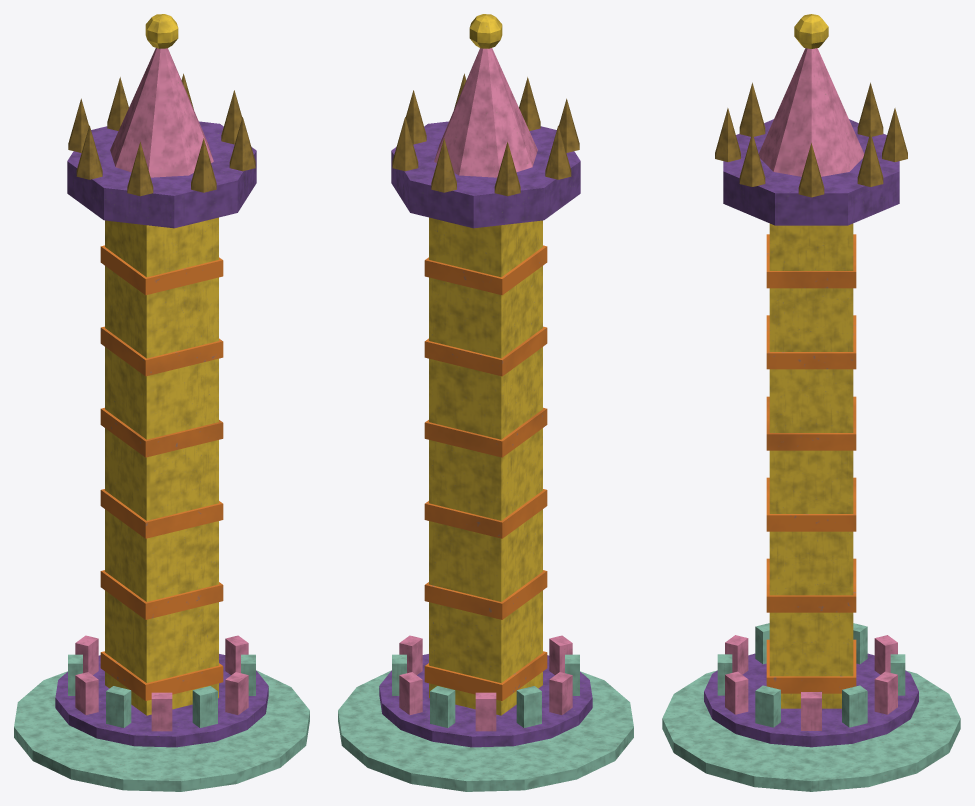
Rendered from Ride_EosTower.fbx.
3 renders of one model, left to right at view 1: azimuth 30°, elevation 25°; view 2: azimuth 150°, elevation 25°; view 3: azimuth 270°, elevation 25°, orthographic.
Visible parts, largest first — view 1: Tower, Crown, Base, Eos_Ring; view 2: Tower, Crown, Base, Eos_Ring; view 3: Tower, Crown, Base, Eos_Ring.
Boxes of the visible parts, x1,y1,x2,y2 form: Tower: (100,217,223,715); Crown: (67,14,256,228); Base: (14,670,309,791); Eos_Ring: (55,635,268,747); Tower: (424,217,547,715); Crown: (391,14,580,228); Base: (338,670,633,791); Eos_Ring: (379,635,592,747); Tower: (766,223,856,708); Crown: (715,14,907,225); Base: (662,670,960,791); Eos_Ring: (704,623,918,747).
Bounding box in the file's own units: 10 × 26.4 × 10.
